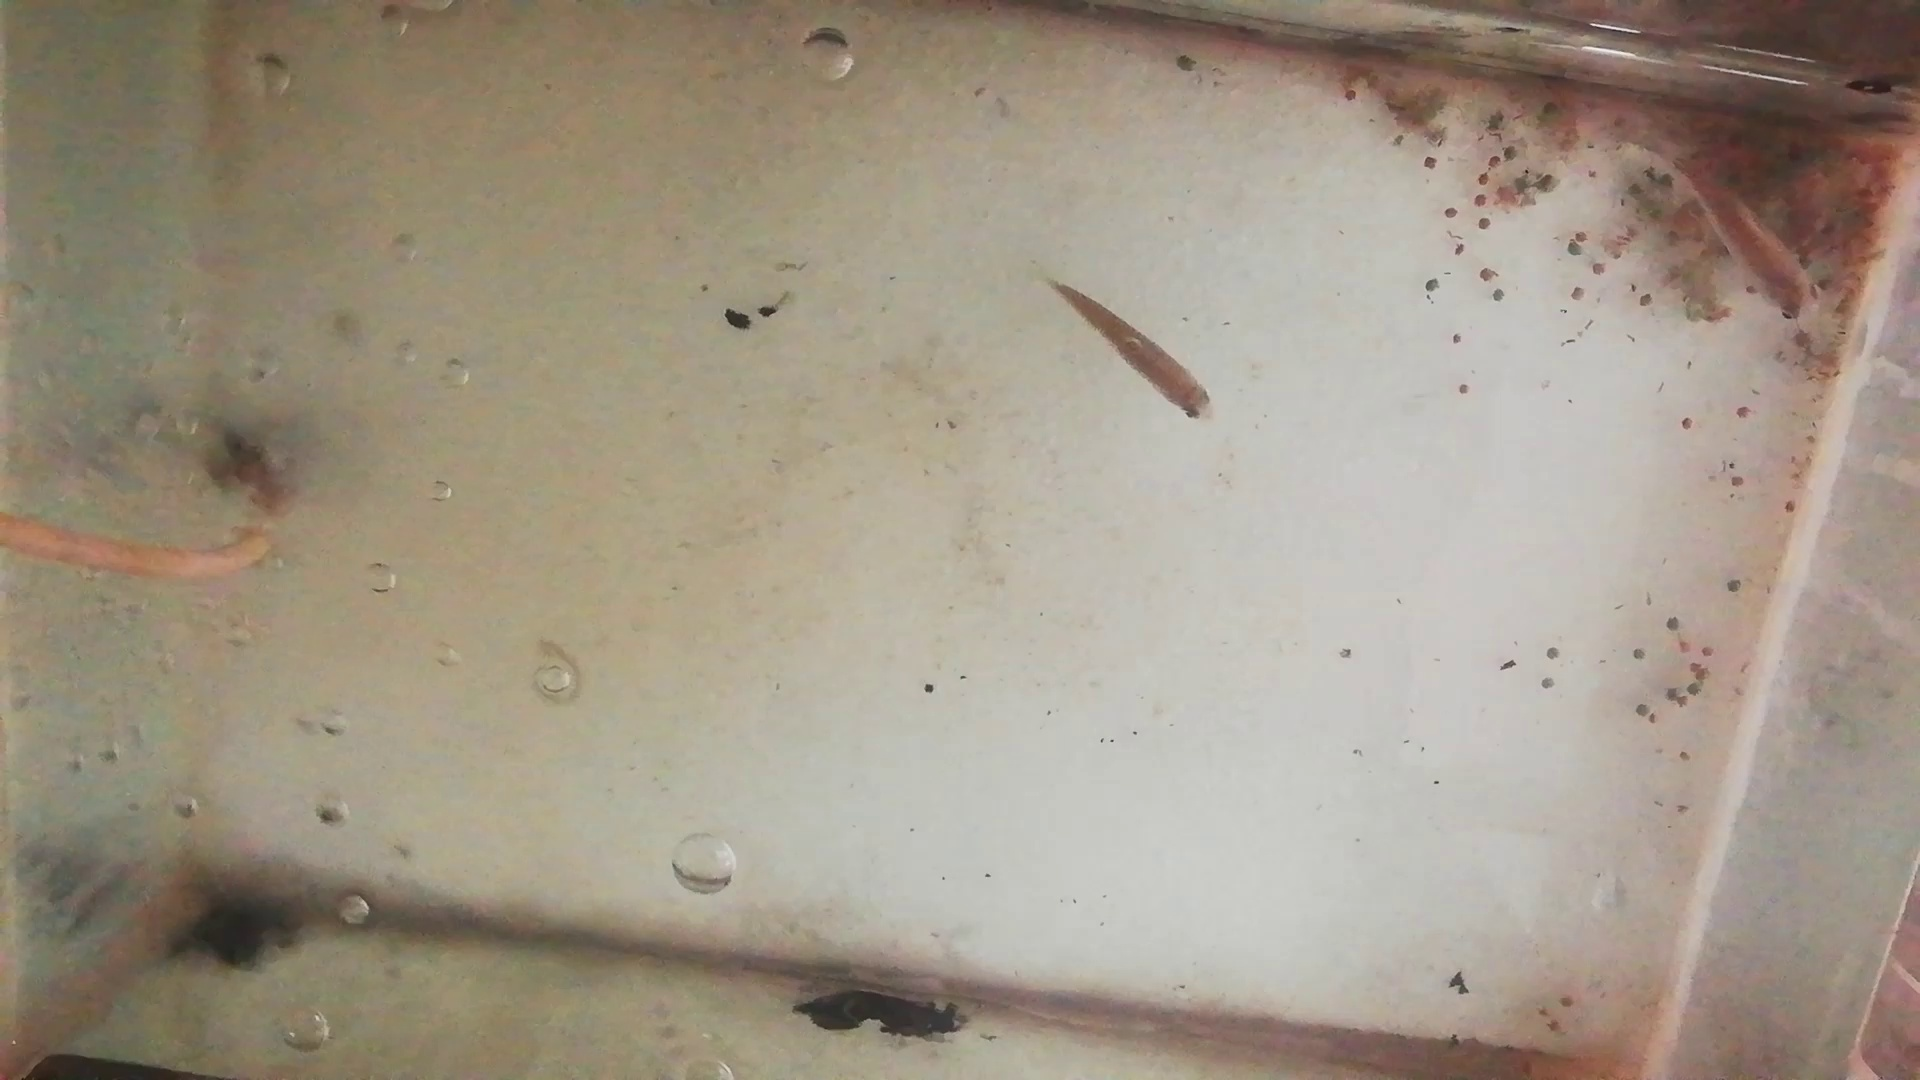fish: (1048, 280, 1221, 427), (1663, 146, 1809, 316)
